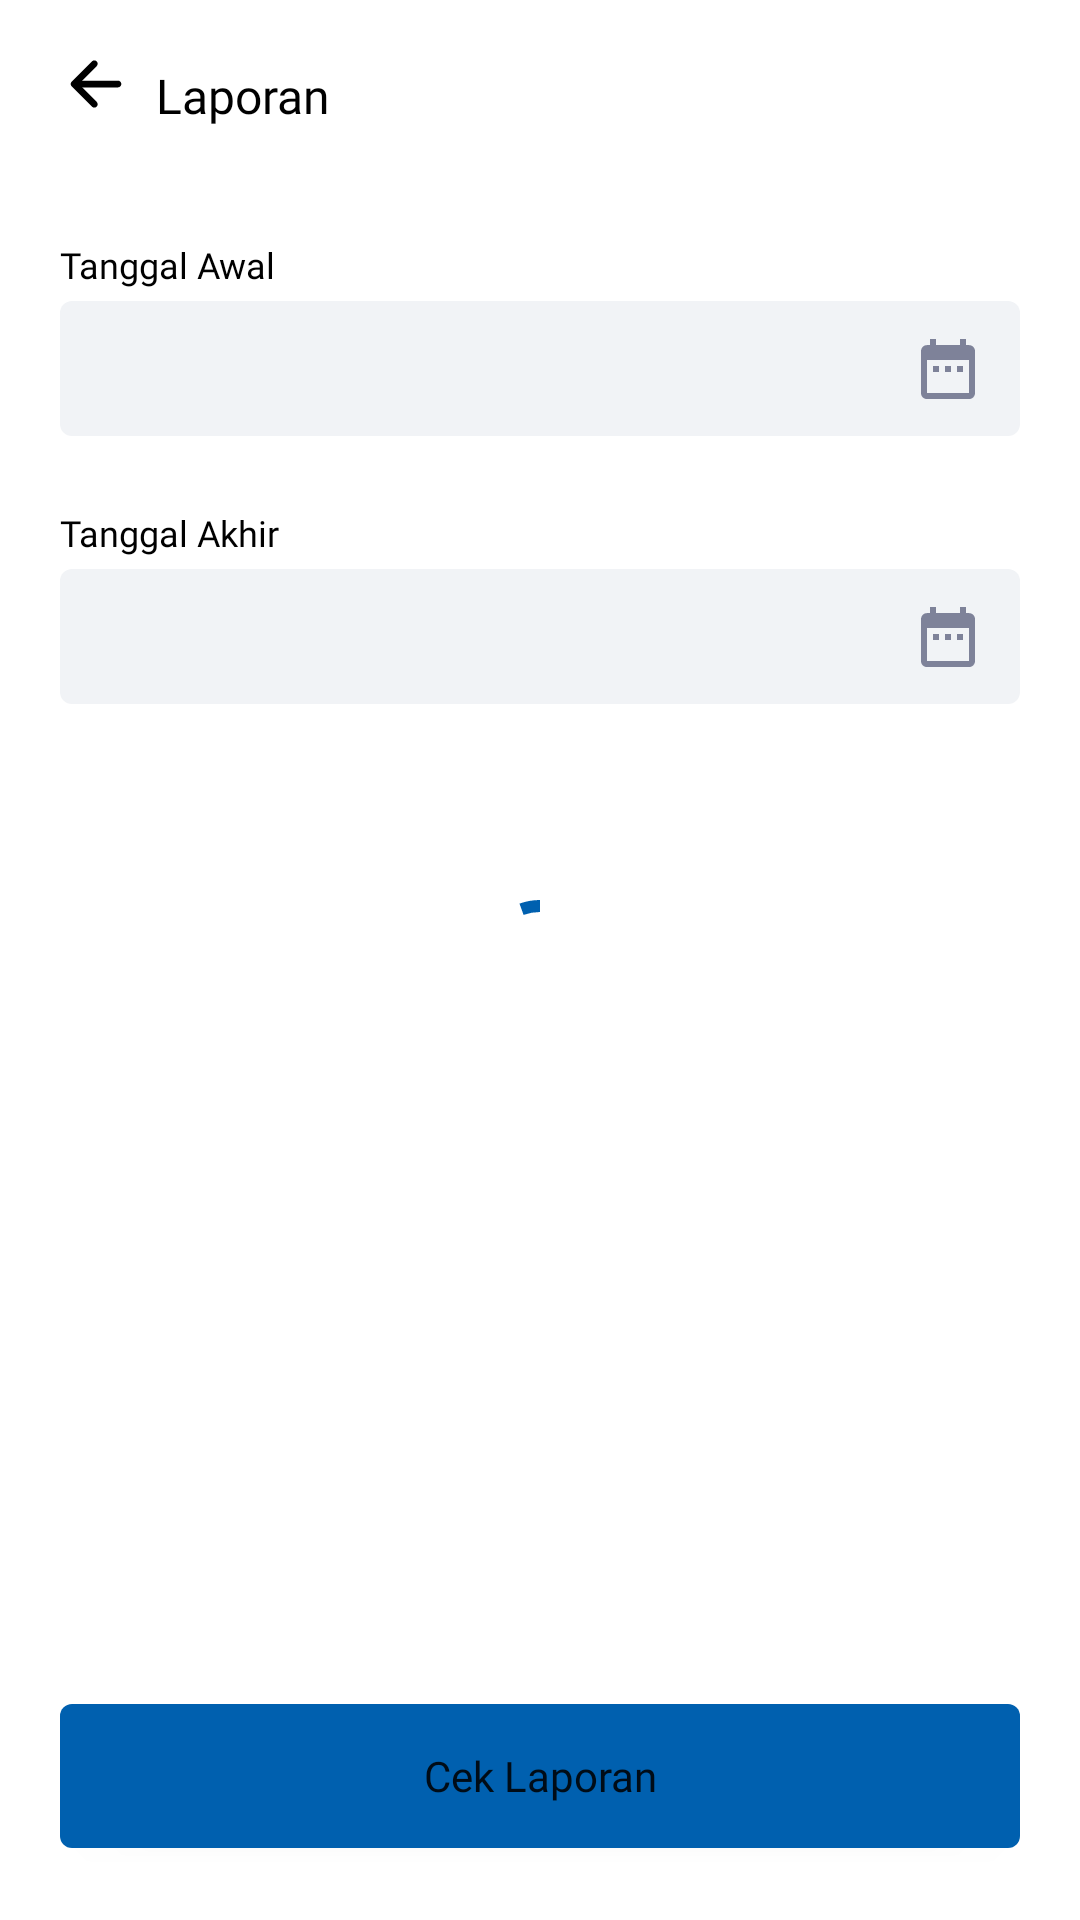

Named icons in this screenshot (1080 × 1920) and their centers, (x=x, y=y):
arrow left: (x=96, y=84)
